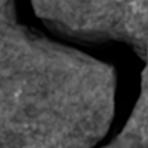broken_brick: (0, 5, 111, 147), (33, 0, 147, 53), (103, 66, 147, 147)
crack: (0, 0, 147, 147)
